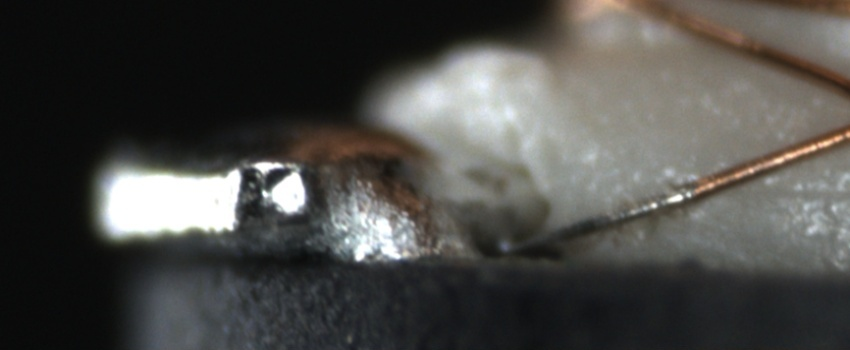DL: (752, 161, 850, 225)
TS: (501, 181, 693, 257)
TTCW: (479, 168, 733, 257)
